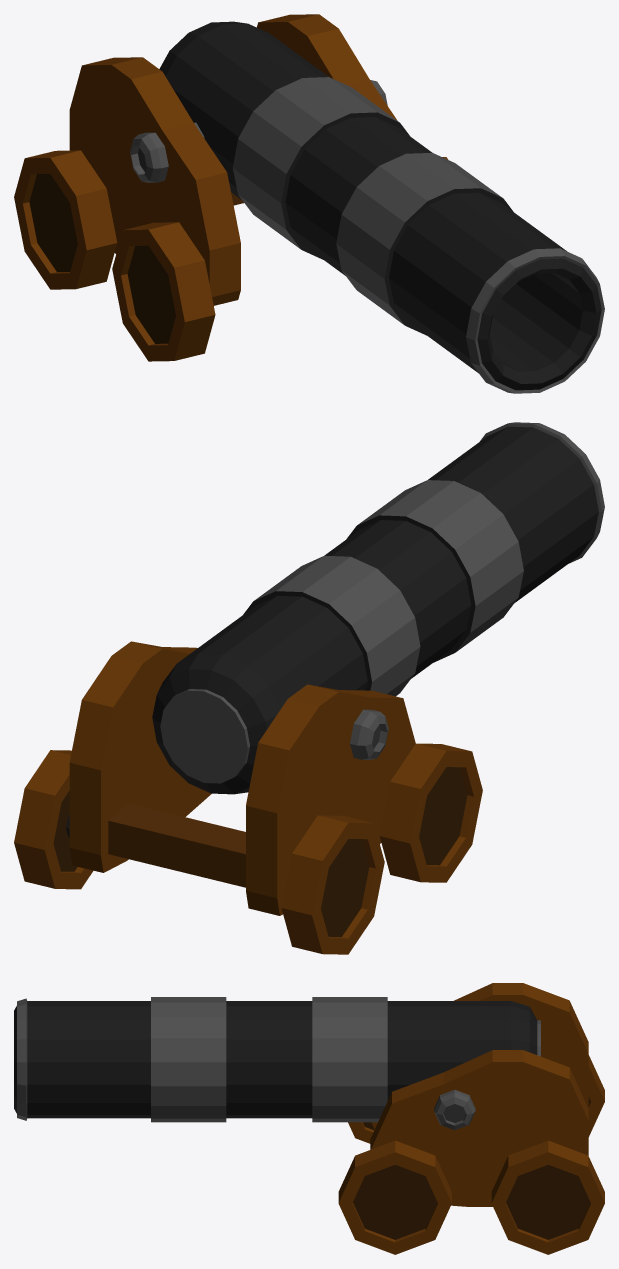
The model's file is Cannon.fbx.
3 views of the same model, one above another, from view 1: azimuth 30°, elevation 25°; view 2: azimuth 150°, elevation 25°; view 3: azimuth 270°, elevation 25° (orthographic). The views are drawn at different scales.
Parts seen in each view (by area): view 1: Cannon; view 2: Cannon; view 3: Cannon.
Boxes of the visible parts, x1=… form: Cannon: x1=14, y1=14, x2=604, y2=393; Cannon: x1=14, y1=422, x2=604, y2=954; Cannon: x1=14, y1=983, x2=604, y2=1254.
Size of the model in its own units: 107 by 85.92 by 235.
